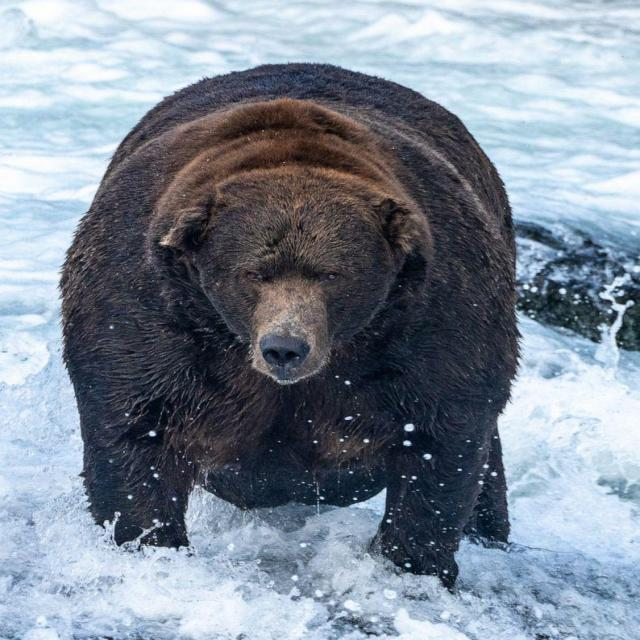Bear: (58, 63, 522, 592)
